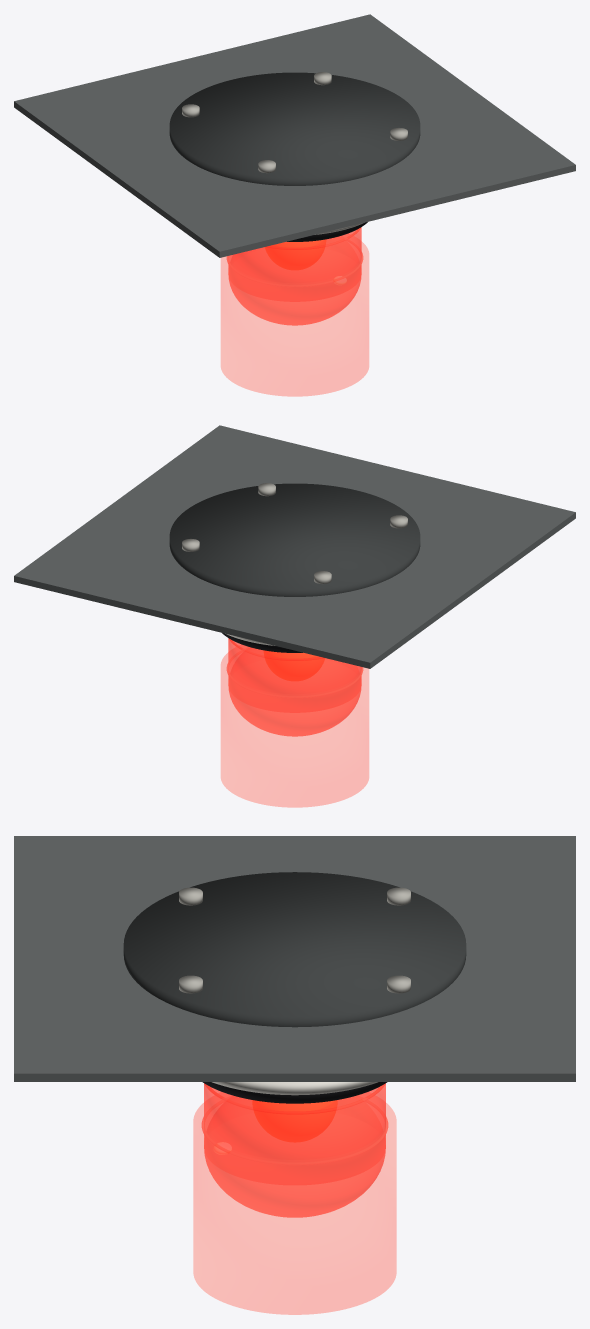
Rendered from cantabile_warning_light.glb.
3 renders of one model, top to bottom at view 1: azimuth 30°, elevation 25°; view 2: azimuth 150°, elevation 25°; view 3: azimuth 270°, elevation 25°, orthographic. The views are drawn at different scales.
Parts seen in each view (by area): view 1: SAMPLE_ENGINE_ROOM_CEILING_CONTEXT_PANEL, CEILING_BLACK_BACKING_DISC_against_ceiling, TRANSPARENT_RED_DOWNWARD_GLOW_VOLUME, RED_TRANSPARENT_ROUNDED_DOME_END, RED_TRANSPARENT_CYLINDRICAL_LENS_BODY, INNER_GLOWING_BULB_VISIBLE_THROUGH_LENS, RED_LENS_RIB_02; view 2: SAMPLE_ENGINE_ROOM_CEILING_CONTEXT_PANEL, CEILING_BLACK_BACKING_DISC_against_ceiling, TRANSPARENT_RED_DOWNWARD_GLOW_VOLUME, RED_TRANSPARENT_ROUNDED_DOME_END, RED_TRANSPARENT_CYLINDRICAL_LENS_BODY, INNER_GLOWING_BULB_VISIBLE_THROUGH_LENS, RED_LENS_RIB_02; view 3: SAMPLE_ENGINE_ROOM_CEILING_CONTEXT_PANEL, CEILING_BLACK_BACKING_DISC_against_ceiling, TRANSPARENT_RED_DOWNWARD_GLOW_VOLUME, RED_TRANSPARENT_ROUNDED_DOME_END, RED_TRANSPARENT_CYLINDRICAL_LENS_BODY, INNER_GLOWING_BULB_VISIBLE_THROUGH_LENS, PALE_RING_BETWEEN_BASE_AND_LENS, BLACK_LENS_SOCKET_LIP, RED_LENS_RIB_02, RED_LENS_RIB_01.
Boxes of the visible parts, x1,y1,x2,y2 form: SAMPLE_ENGINE_ROOM_CEILING_CONTEXT_PANEL: [14, 14, 575, 257]; CEILING_BLACK_BACKING_DISC_against_ceiling: [169, 72, 420, 185]; TRANSPARENT_RED_DOWNWARD_GLOW_VOLUME: [221, 242, 368, 396]; RED_TRANSPARENT_ROUNDED_DOME_END: [228, 236, 361, 325]; RED_TRANSPARENT_CYLINDRICAL_LENS_BODY: [228, 227, 361, 301]; INNER_GLOWING_BULB_VISIBLE_THROUGH_LENS: [265, 239, 325, 269]; RED_LENS_RIB_02: [226, 237, 363, 287]; SAMPLE_ENGINE_ROOM_CEILING_CONTEXT_PANEL: [14, 425, 575, 668]; CEILING_BLACK_BACKING_DISC_against_ceiling: [169, 483, 420, 596]; TRANSPARENT_RED_DOWNWARD_GLOW_VOLUME: [221, 653, 368, 807]; RED_TRANSPARENT_ROUNDED_DOME_END: [228, 647, 361, 736]; RED_TRANSPARENT_CYLINDRICAL_LENS_BODY: [228, 638, 361, 712]; INNER_GLOWING_BULB_VISIBLE_THROUGH_LENS: [264, 650, 324, 680]; RED_LENS_RIB_02: [226, 648, 363, 698]; SAMPLE_ENGINE_ROOM_CEILING_CONTEXT_PANEL: [14, 836, 575, 1081]; CEILING_BLACK_BACKING_DISC_against_ceiling: [123, 872, 466, 1027]; TRANSPARENT_RED_DOWNWARD_GLOW_VOLUME: [193, 1095, 396, 1314]; RED_TRANSPARENT_ROUNDED_DOME_END: [204, 1096, 385, 1217]; RED_TRANSPARENT_CYLINDRICAL_LENS_BODY: [204, 1083, 385, 1185]; INNER_GLOWING_BULB_VISIBLE_THROUGH_LENS: [252, 1100, 337, 1142]; PALE_RING_BETWEEN_BASE_AND_LENS: [212, 1082, 377, 1095]; BLACK_LENS_SOCKET_LIP: [202, 1082, 387, 1103]; RED_LENS_RIB_02: [201, 1097, 388, 1165]; RED_LENS_RIB_01: [204, 1083, 385, 1114].
Bounding box in the file's own units: 2.1 × 1.38 × 2.1.
